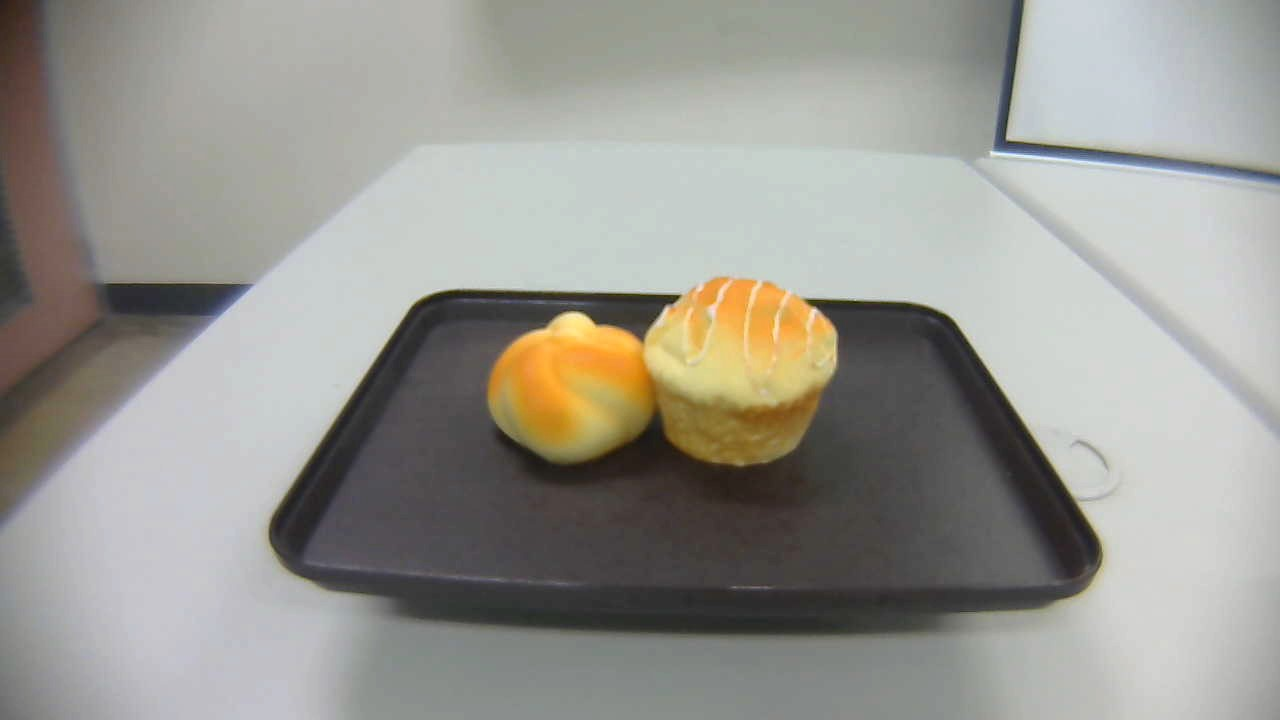cupcake: (645, 276, 840, 469)
twist bread: (487, 312, 657, 466)
